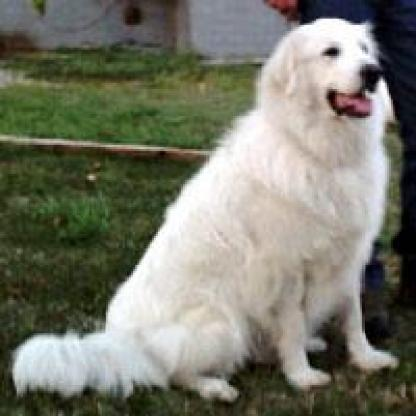Great_Pyrenees: (0, 10, 401, 409)
